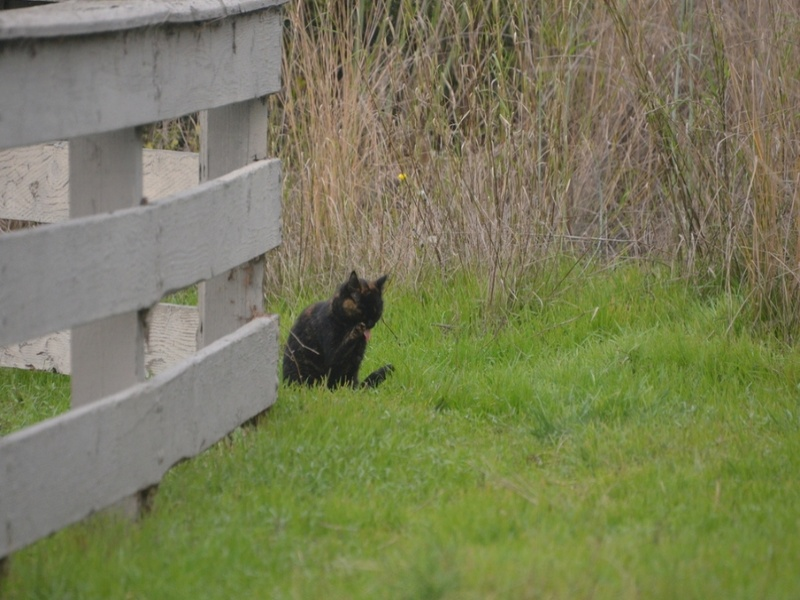cat: (278, 266, 399, 393)
